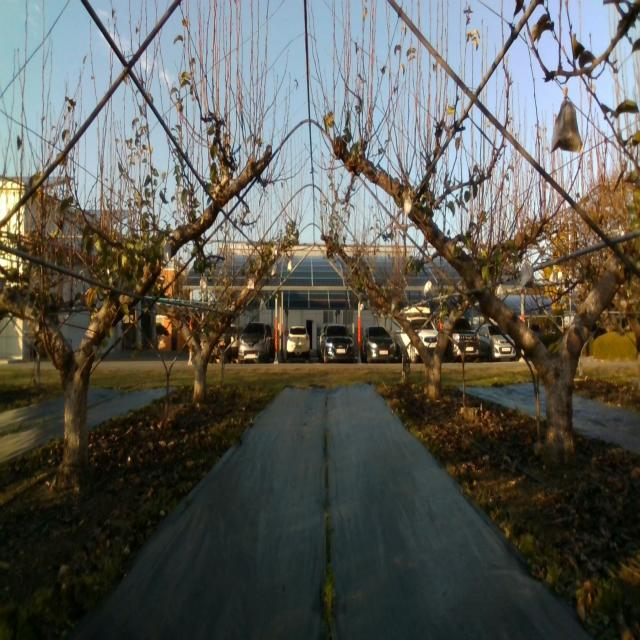pearbags: (551, 98, 583, 153), (521, 262, 534, 288)
